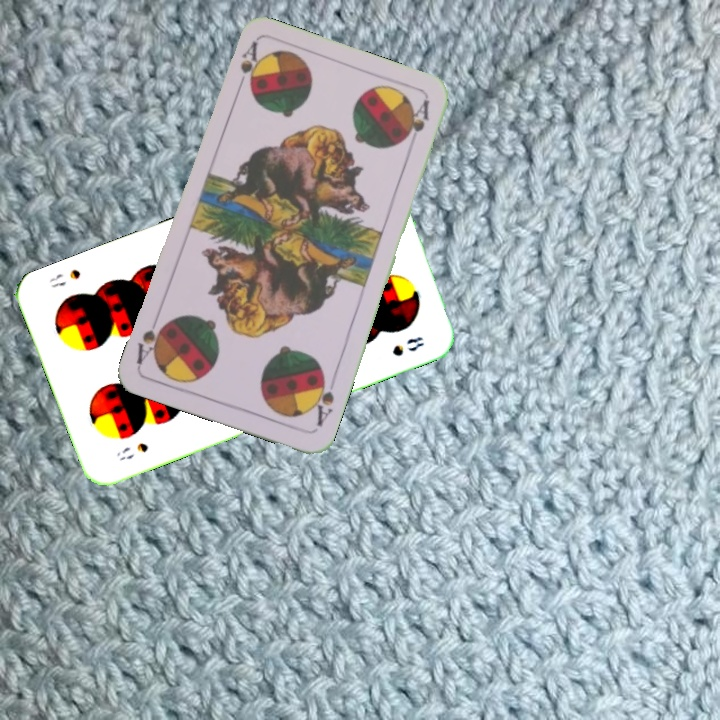S8: (112, 438, 151, 463)
SA: (307, 370, 339, 429), (232, 38, 261, 96)
